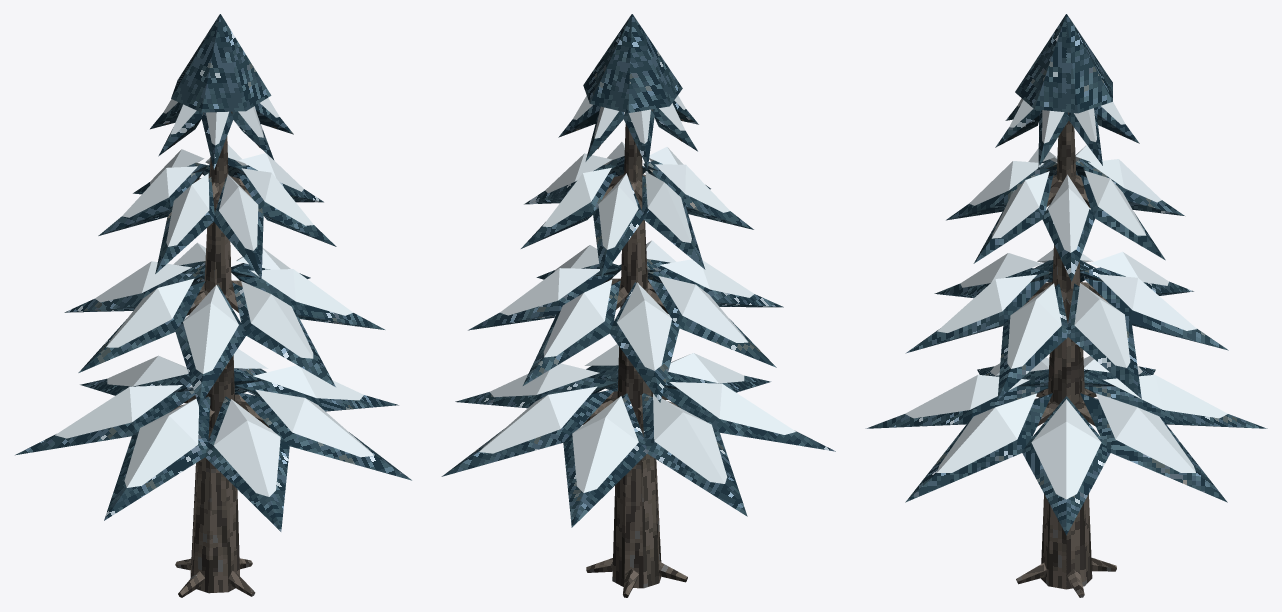
Rendered from arvore.glb.
3 renders of one model, left to right at view 1: azimuth 30°, elevation 25°; view 2: azimuth 150°, elevation 25°; view 3: azimuth 270°, elevation 25°, orthographic.
Parts seen in each view (by area): view 1: neve_arvore; view 2: neve_arvore; view 3: neve_arvore.
Part boxes in pixels (box(x1,y1,x2,y2)): neve_arvore: box(15, 14, 411, 597); neve_arvore: box(441, 14, 835, 597); neve_arvore: box(865, 14, 1267, 597).
Size of the model in its own units: 1.37 by 2.18 by 1.4.
3 materials, 2 textured.
